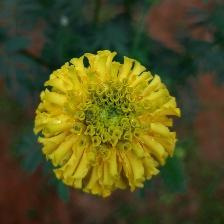marigold: (34, 48, 181, 199)
